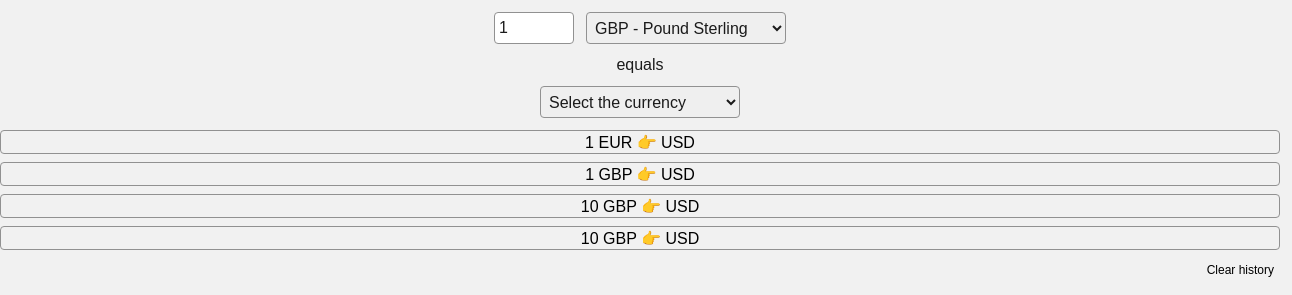
Test case: Converter › clears history
Click the button "Clear history": click(1240, 270) top-left (1201, 262), bottom-right (1280, 278)
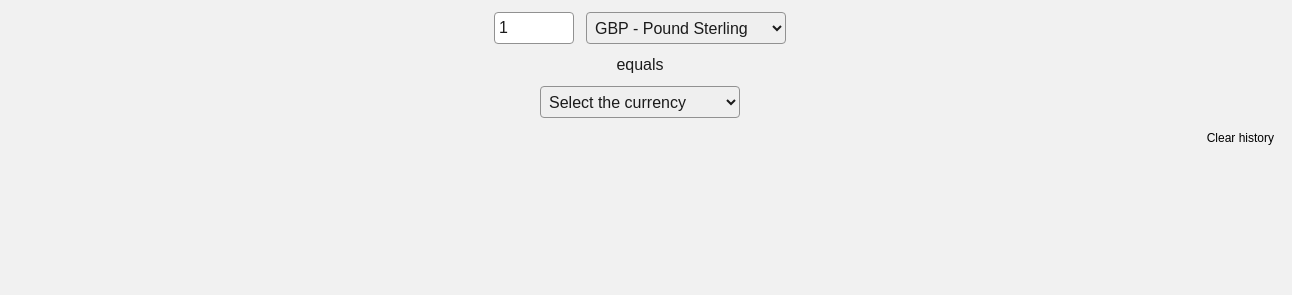
Check: the text "👉" is gone
